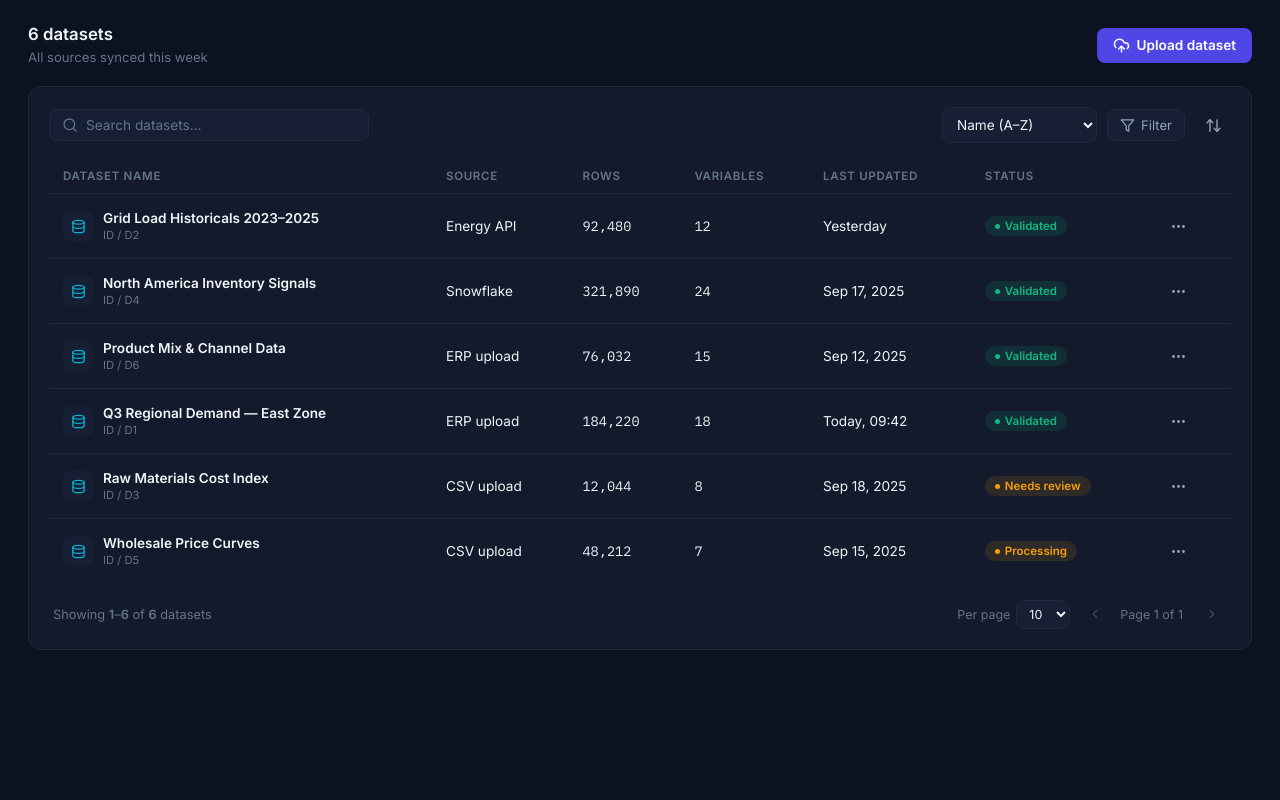
Scenario: DatasetsPage › filters rows through the shared search box and shows an empty state
This screenshot has width=1280, height=800.
Expected: the button named "Options for" is shown, [1161,208,1197,244]
Type "zzzz-no-such-dataset" into the search field labelled "Search datasets…" at (221, 125), box [86,117,356,133]
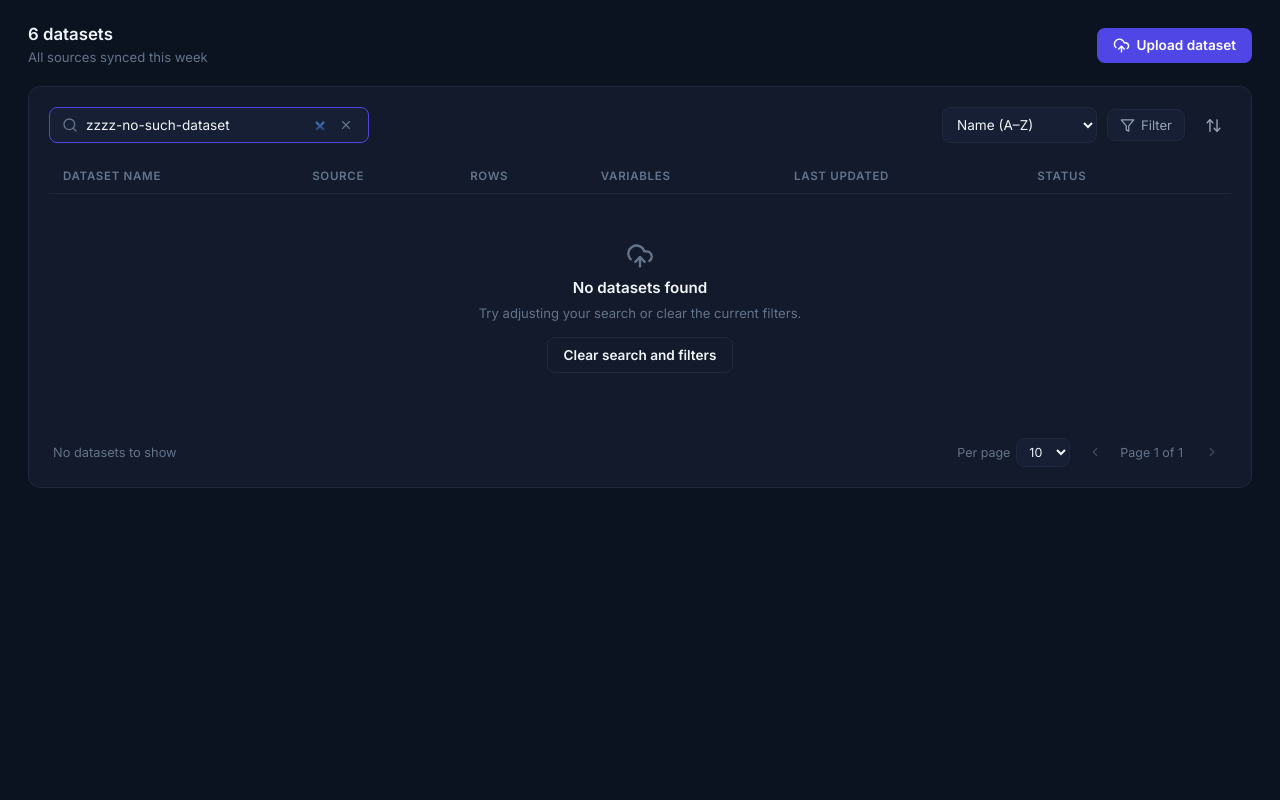
Expected: the text "No datasets found" is shown, [573,278,707,297]
Expected: the button "Clear search and filters" is shown, [547,337,734,373]
